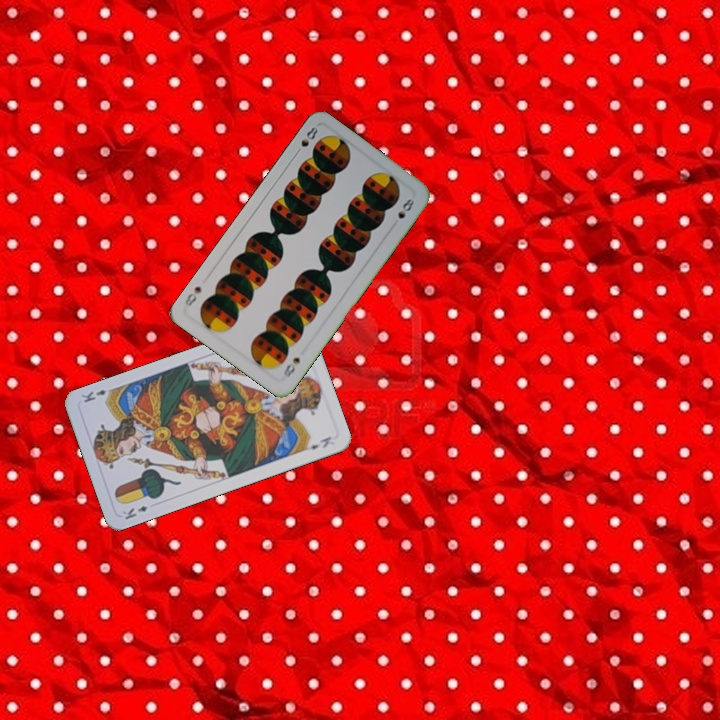EK: (118, 502, 151, 522)
S8: (291, 123, 321, 158), (279, 353, 303, 382)
